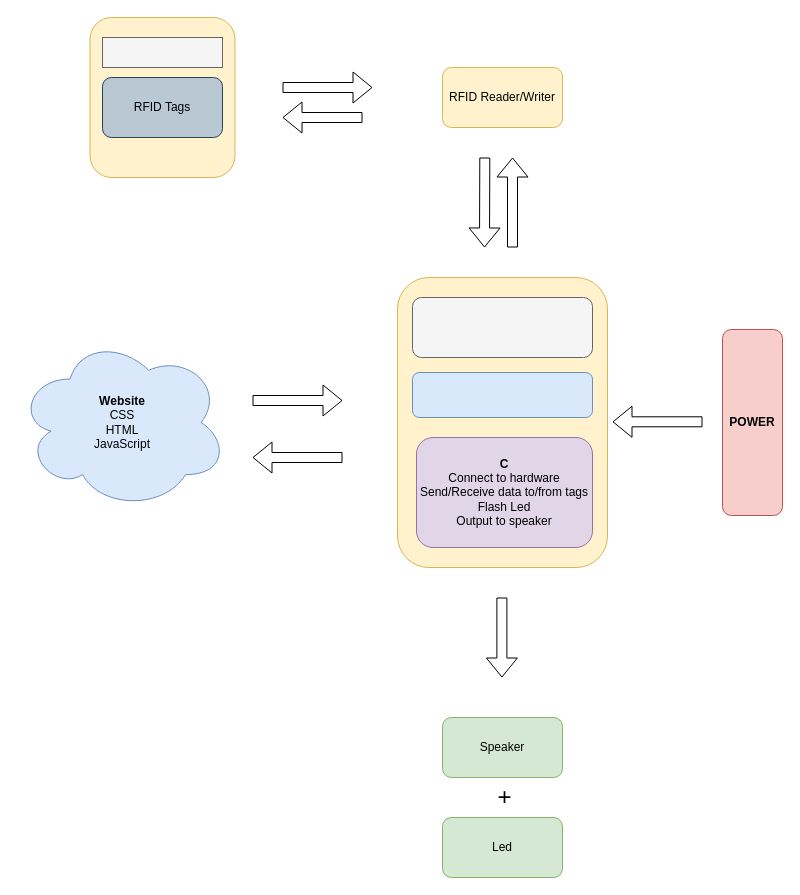
This 800x895 diagram has some shape labels left out. The centre of each missing label's shape, as x and y in pixels:
"ESP32" goes at [502,327].
"Input" goes at [162,52].
"Web Server Send/Receive data" goes at [502,395].
